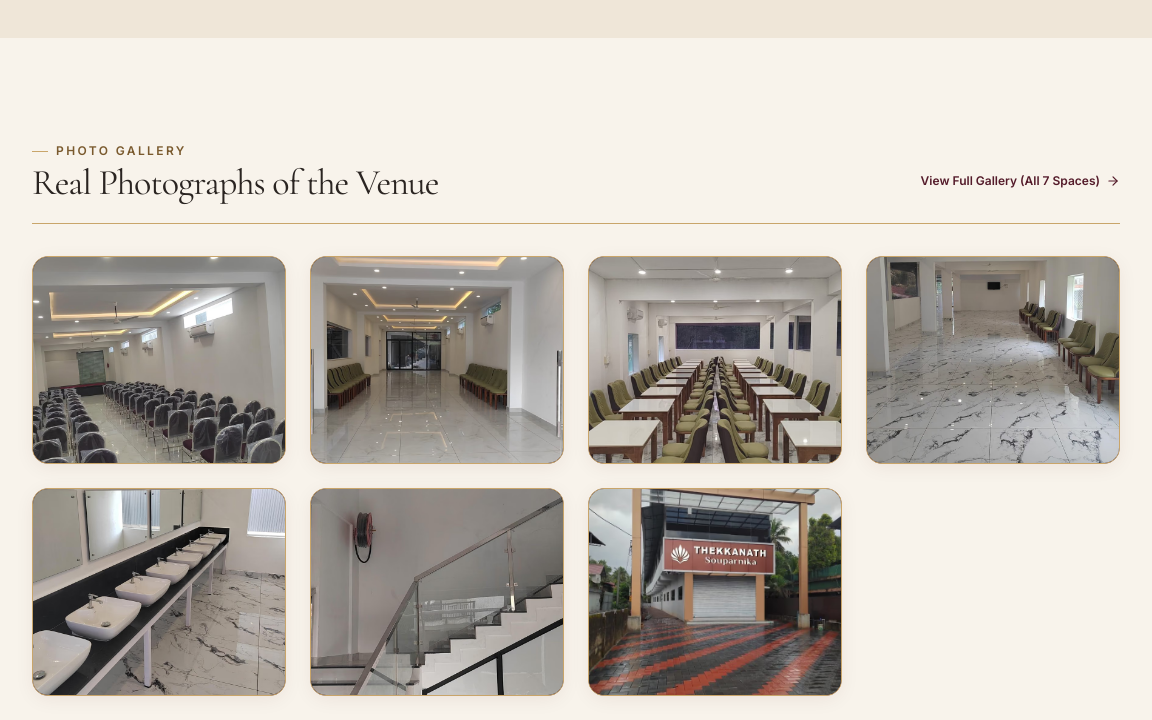
Scenario: gallery thumbnails › homepage tiles are buttons named after their photo titles, and open the lightbox
(page scrolled)
Click the 3rd button named "Dining Hall — Banquet Tables" at {"x": 715, "y": 360}, box [588,256,842,464]
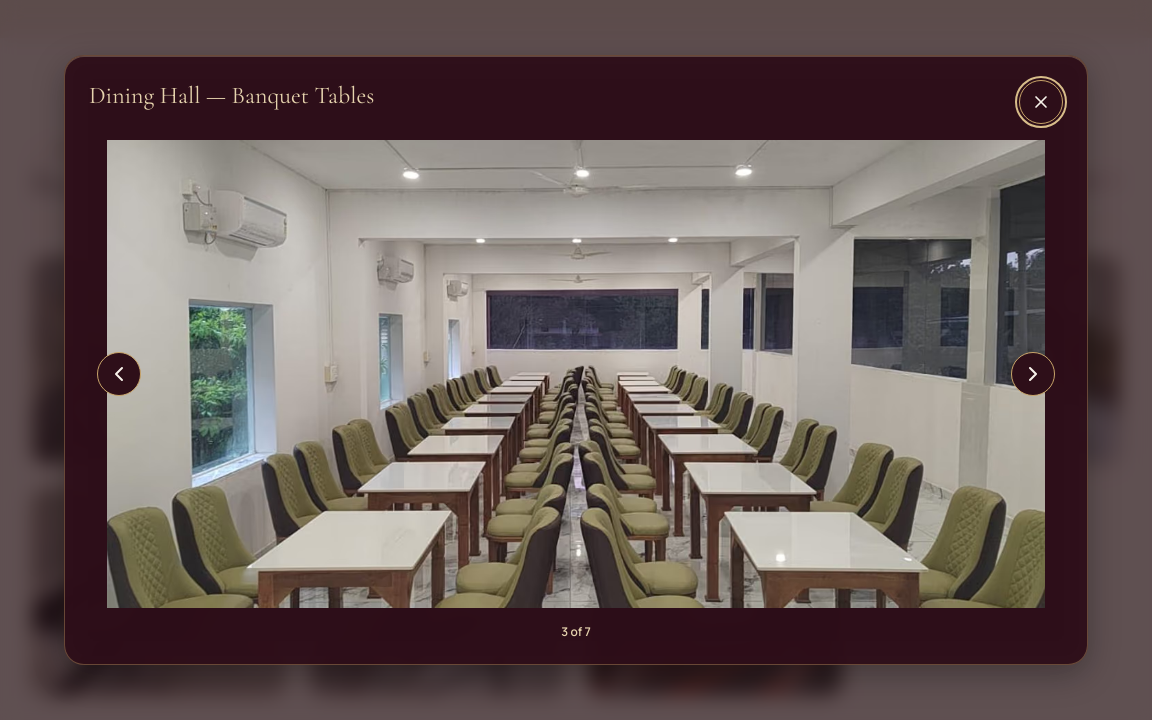
Now the dialog is shown
Press Escape
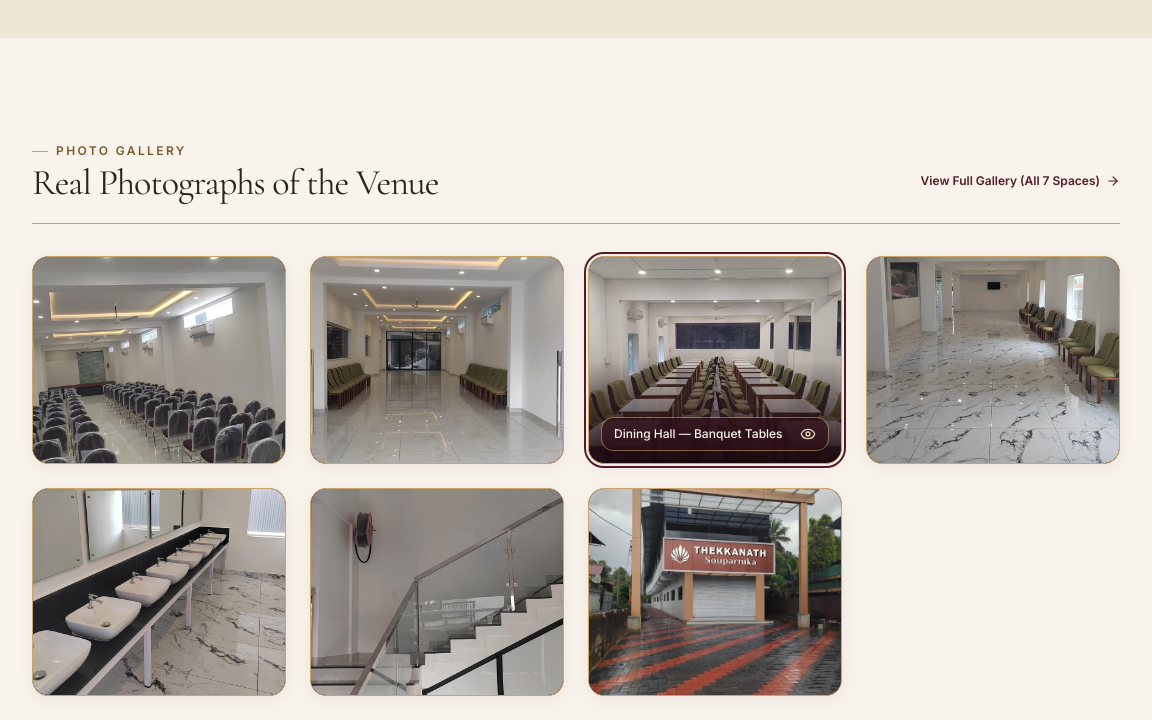
Now the dialog is gone
